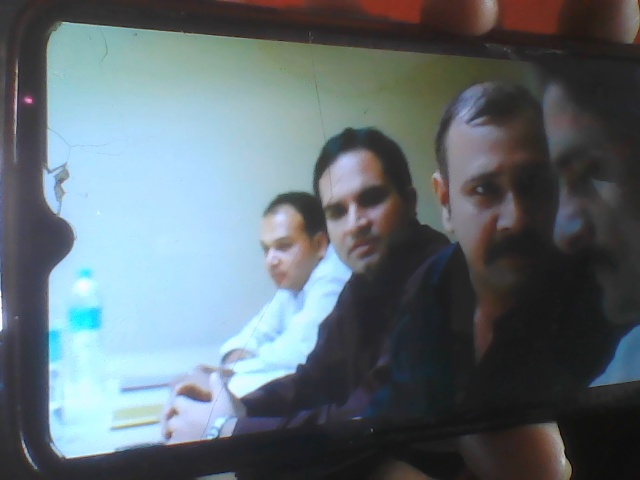fake: (304, 129, 413, 283)
